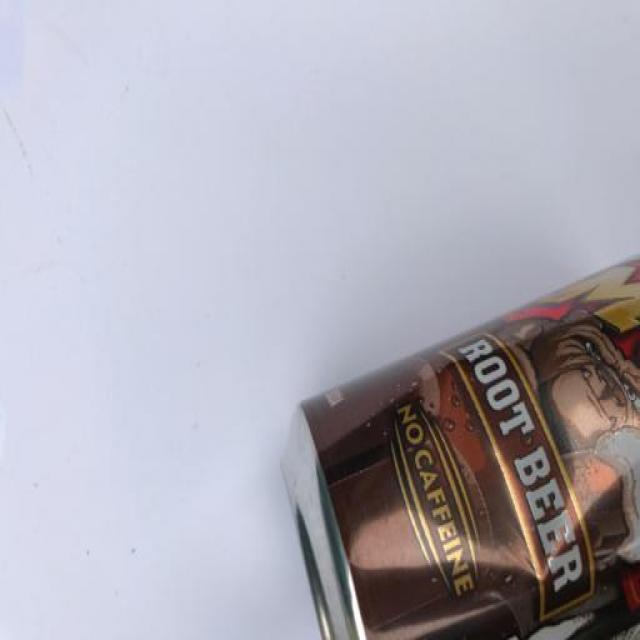metel: (256, 262, 640, 640)
